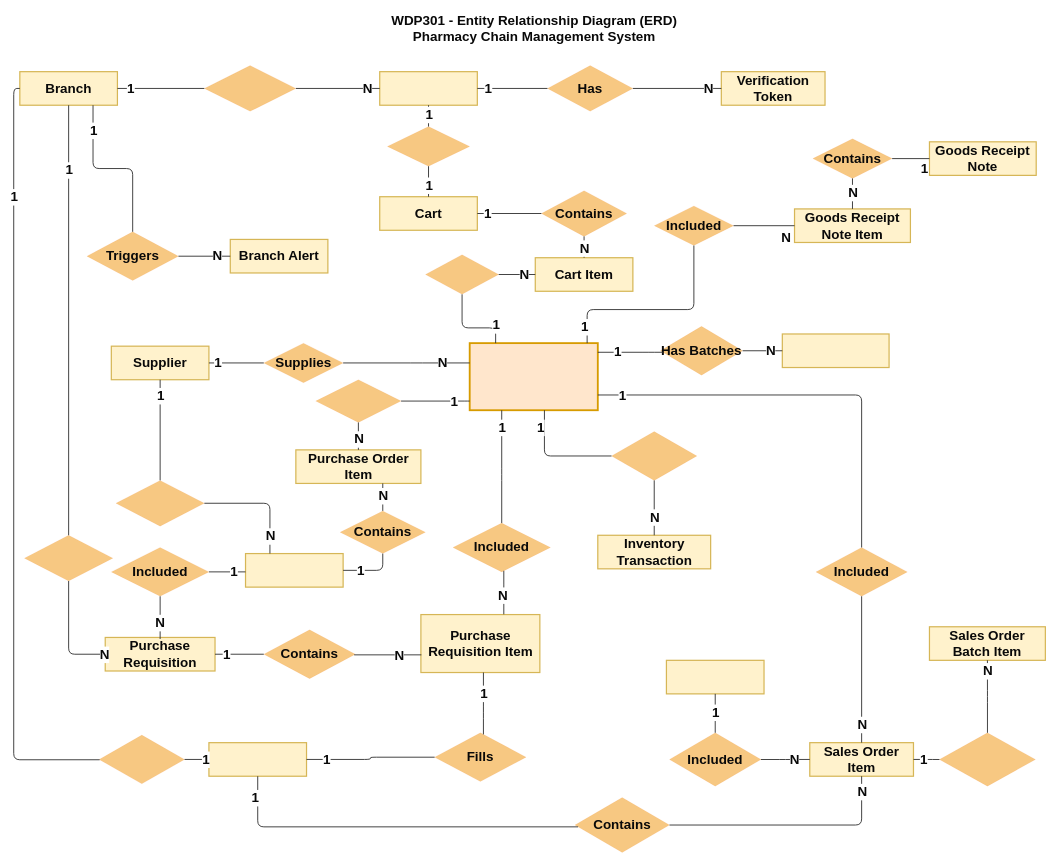
The diagram is 1057 pixels wide and 863 high, and some of its shapes have lost their labels. The shapes that lost their labels are listed below. From the top down, each one's centre as x and y in pixels, then its label:
At [250,88]: "Hosts".
At [428,88]: "User".
At [428,146]: "Owns".
At [461,274]: "Held In".
At [835,350]: "Medicine Batch".
At [533,376]: "Medicine".
At [358,400]: "Received By".
At [654,455]: "Tracks".
At [160,503]: "Supplied By".
At [68,558]: "Generates".
At [294,570]: "Purchase Order".
At [715,676]: "Prescription".
At [141,759]: "Requests".
At [257,759]: "Sales Order".
At [987,759]: "Allocates".
